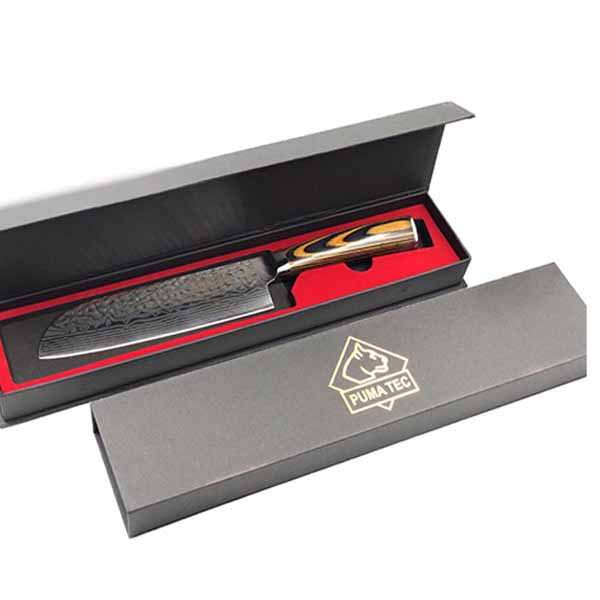Puma: (337, 380, 390, 410)
